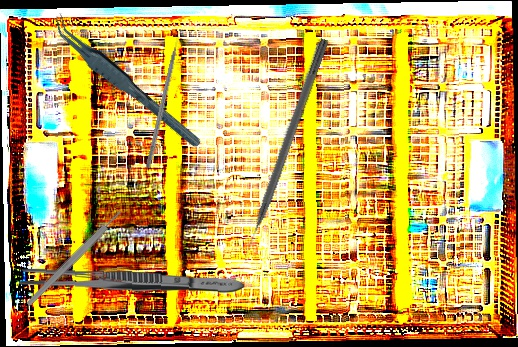Dressing Forceps: (19, 266, 245, 297)
Hook Surgical: (145, 29, 184, 169)
Pusher: (237, 36, 330, 263)
Scalpel Handle: (25, 208, 124, 308)
Tissue Forceps: (48, 1, 203, 164)
